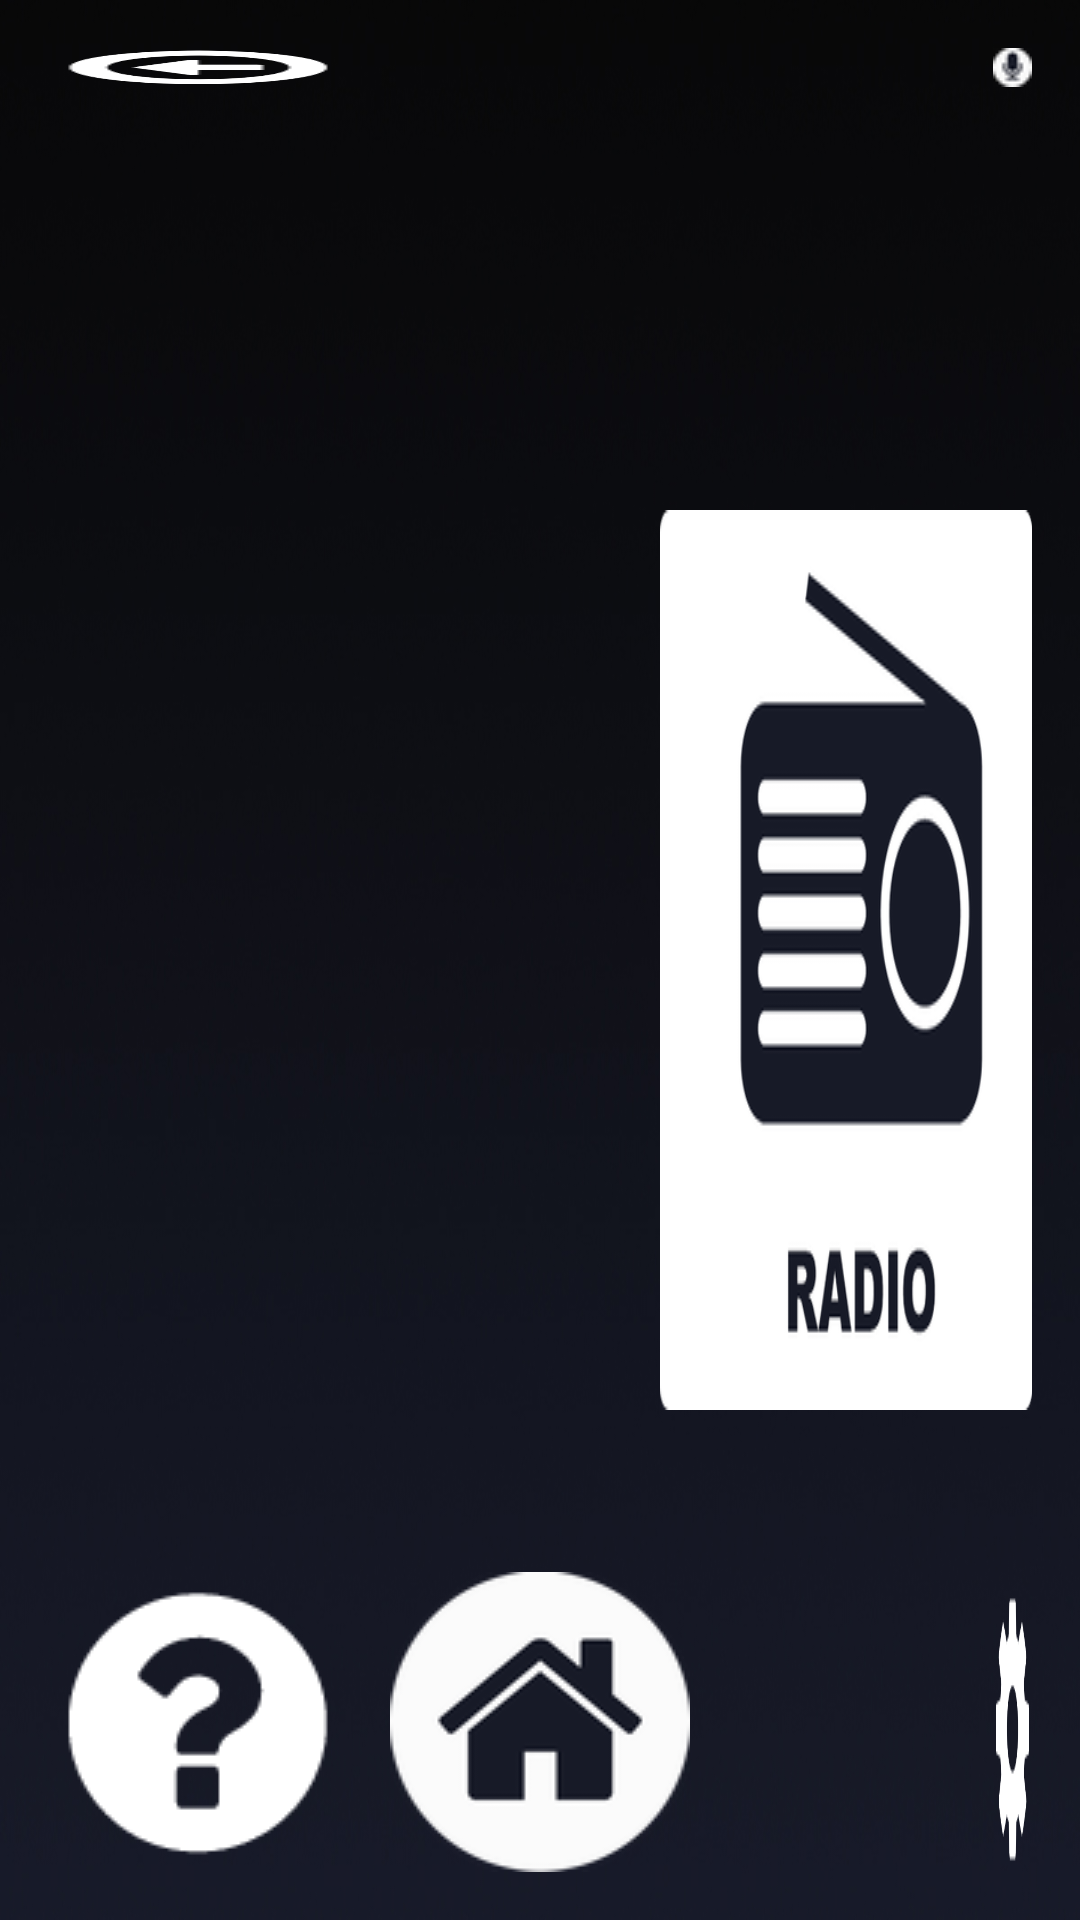

Where to tap for icons on this 1080w x 1920h app screen, as (x,y):
help: (198,1723)
home rsz: (540,1722)
mic: (1012,67)
